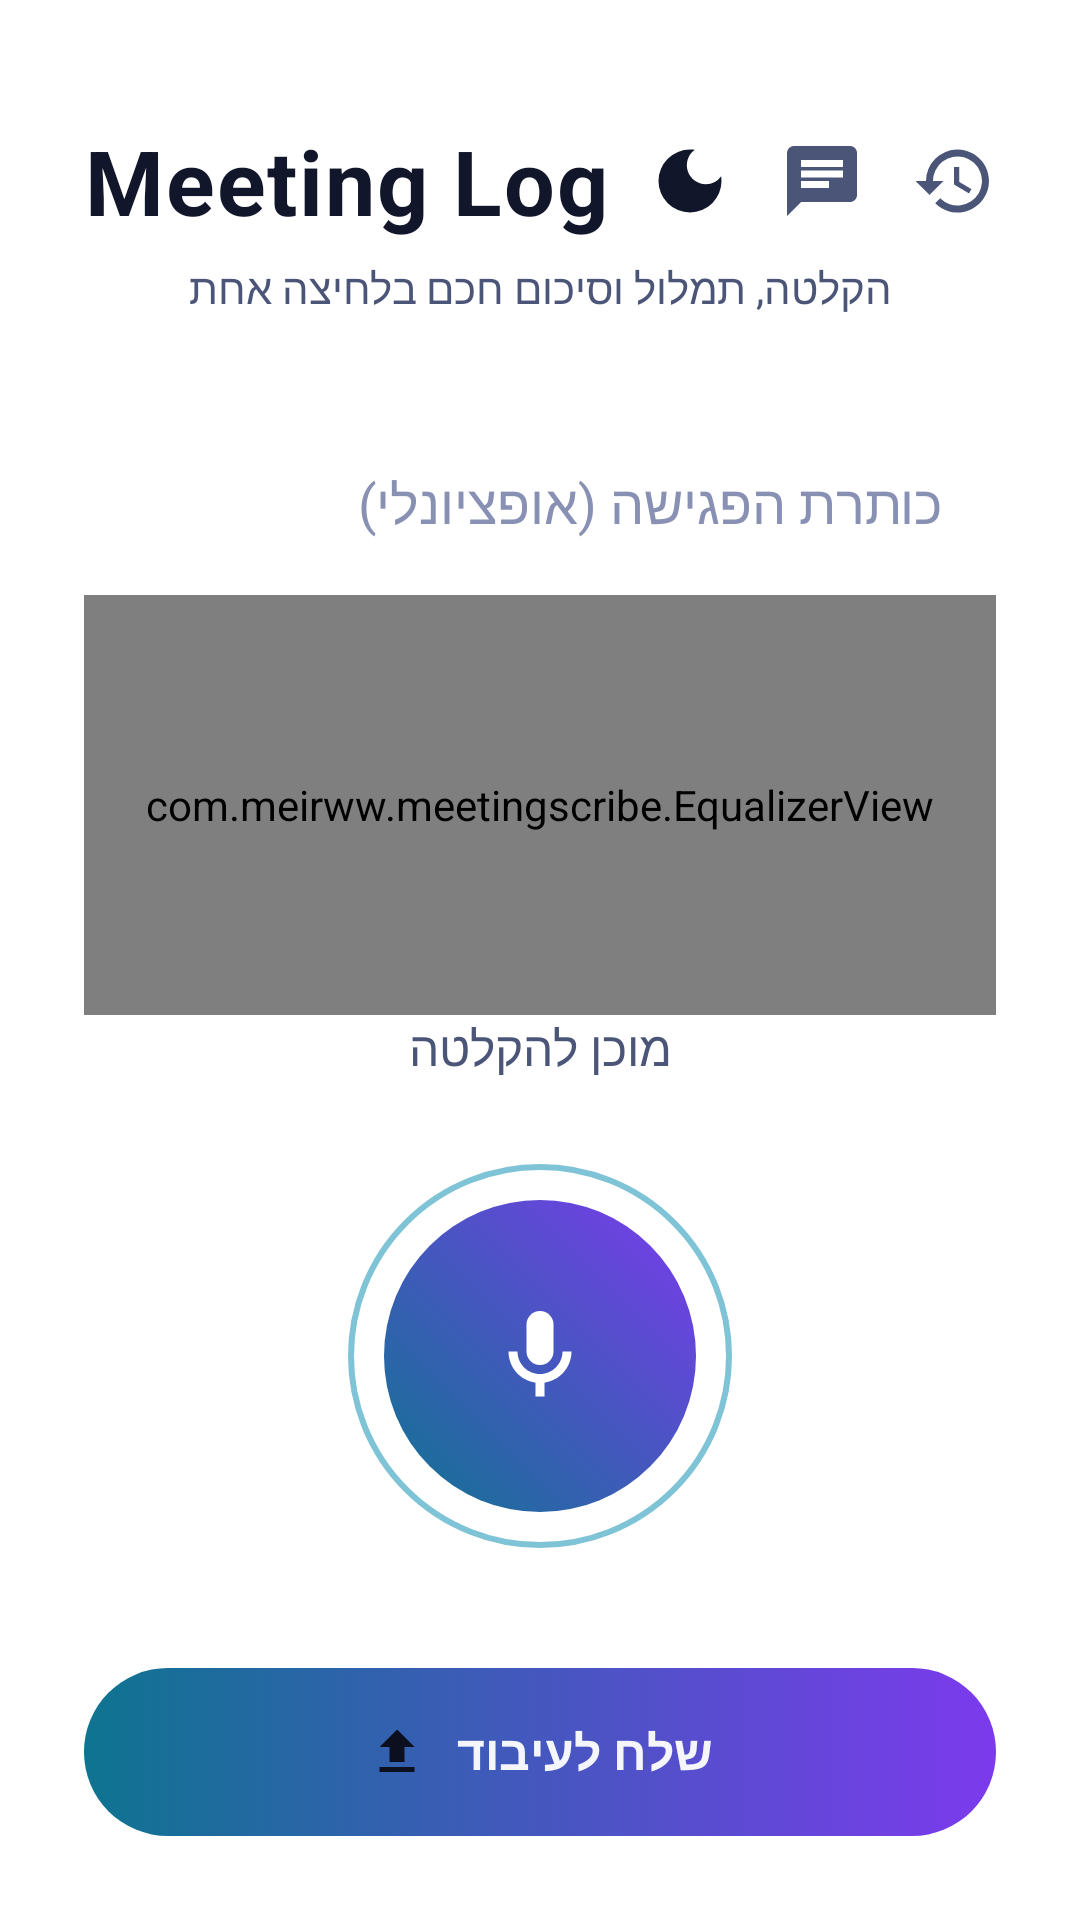

Icons on this 1080w x 1920h Android screen, each with the point to tap as point (x, y):
upload: point (397, 1750)
ההקלטות שלי: point (952, 181)
החלף מצב בהיר/כהה: point (690, 181)
התחל הקלטה: point (540, 1354)
שאלות על הקלטות: point (822, 181)
